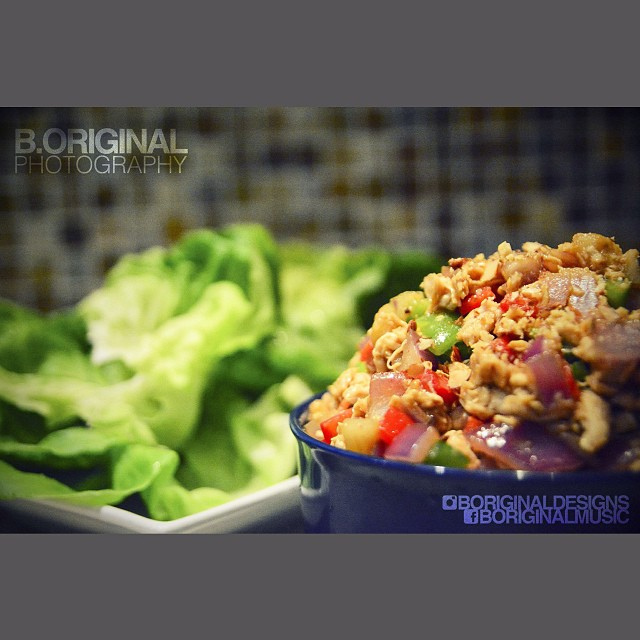chopped lettuce: (14, 221, 293, 518)
